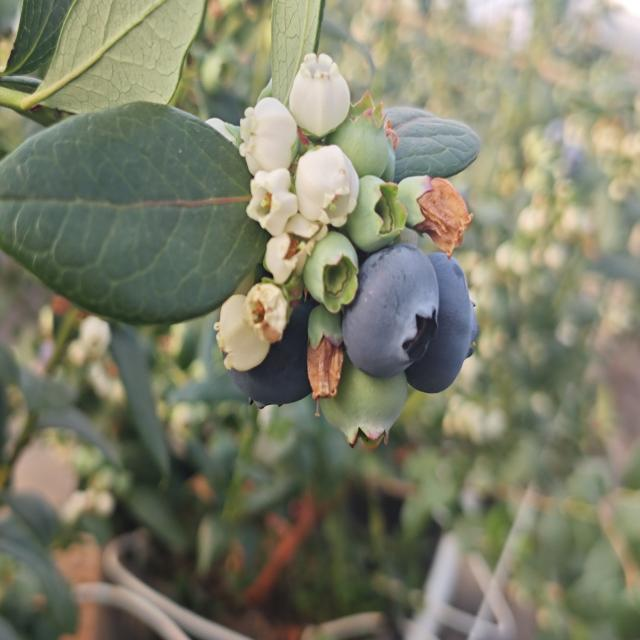ripe: (335, 235, 444, 378), (219, 284, 328, 416), (402, 242, 482, 399)
